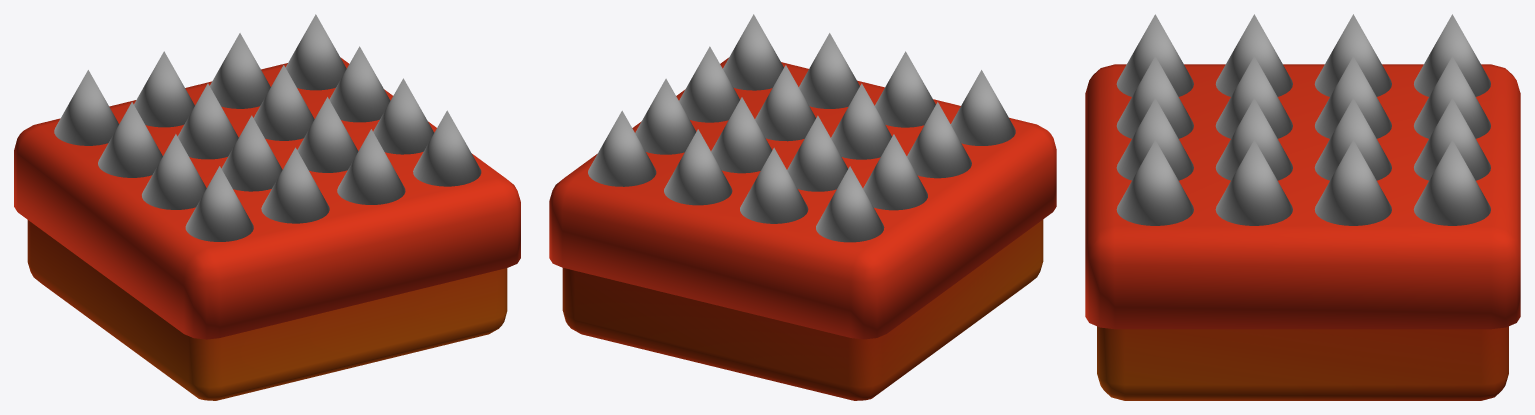
The model's file is trap_platformspikered.glb.
3 views of the same model, side by side, from view 1: azimuth 30°, elevation 25°; view 2: azimuth 150°, elevation 25°; view 3: azimuth 270°, elevation 25° (orthographic). The views are drawn at different scales.
Visible parts, largest first — view 1: Cube.020_visual; view 2: Cube.020_visual; view 3: Cube.020_visual.
Boxes of the visible parts, x1,y1,x2,y2 form: Cube.020_visual: (14, 14, 520, 400); Cube.020_visual: (549, 14, 1056, 400); Cube.020_visual: (1085, 14, 1520, 400).
Size of what is drawn, in the model's own units: 1.42 by 0.8857 by 1.42.
Materials: 1 (1 with a texture image).
